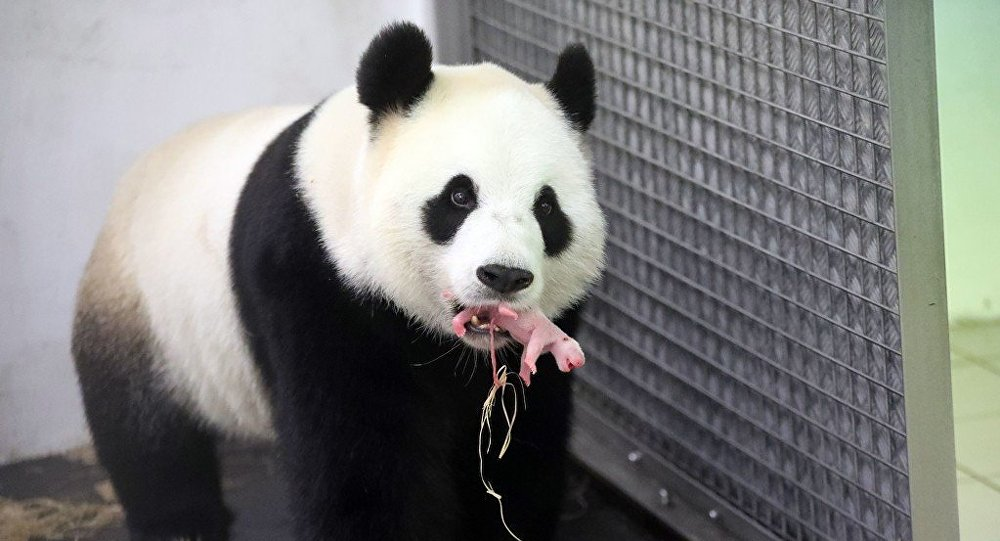panda: (64, 15, 615, 539)
